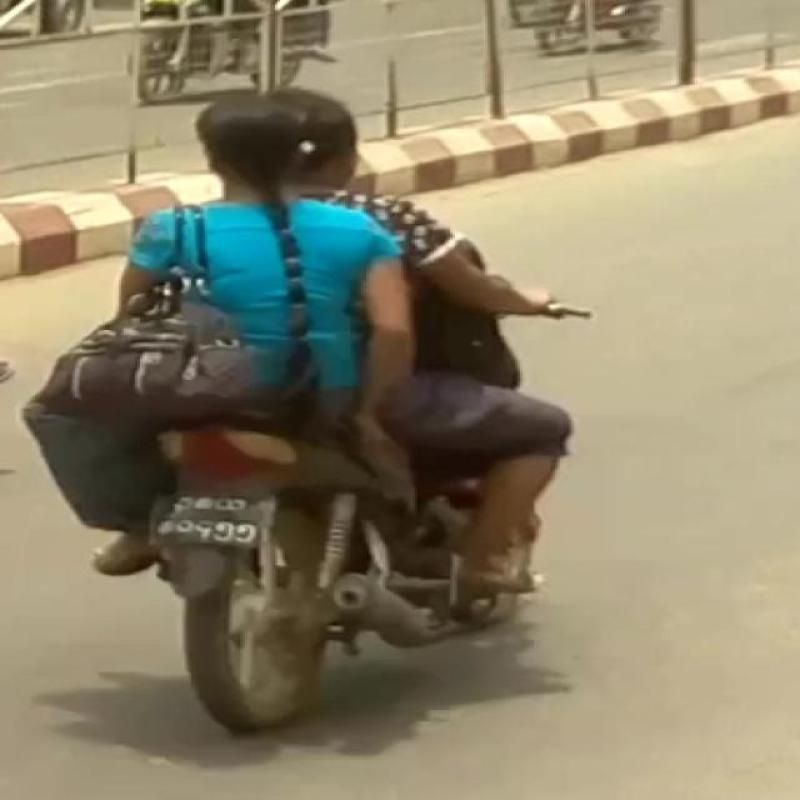nohelmet: (182, 76, 330, 188)
